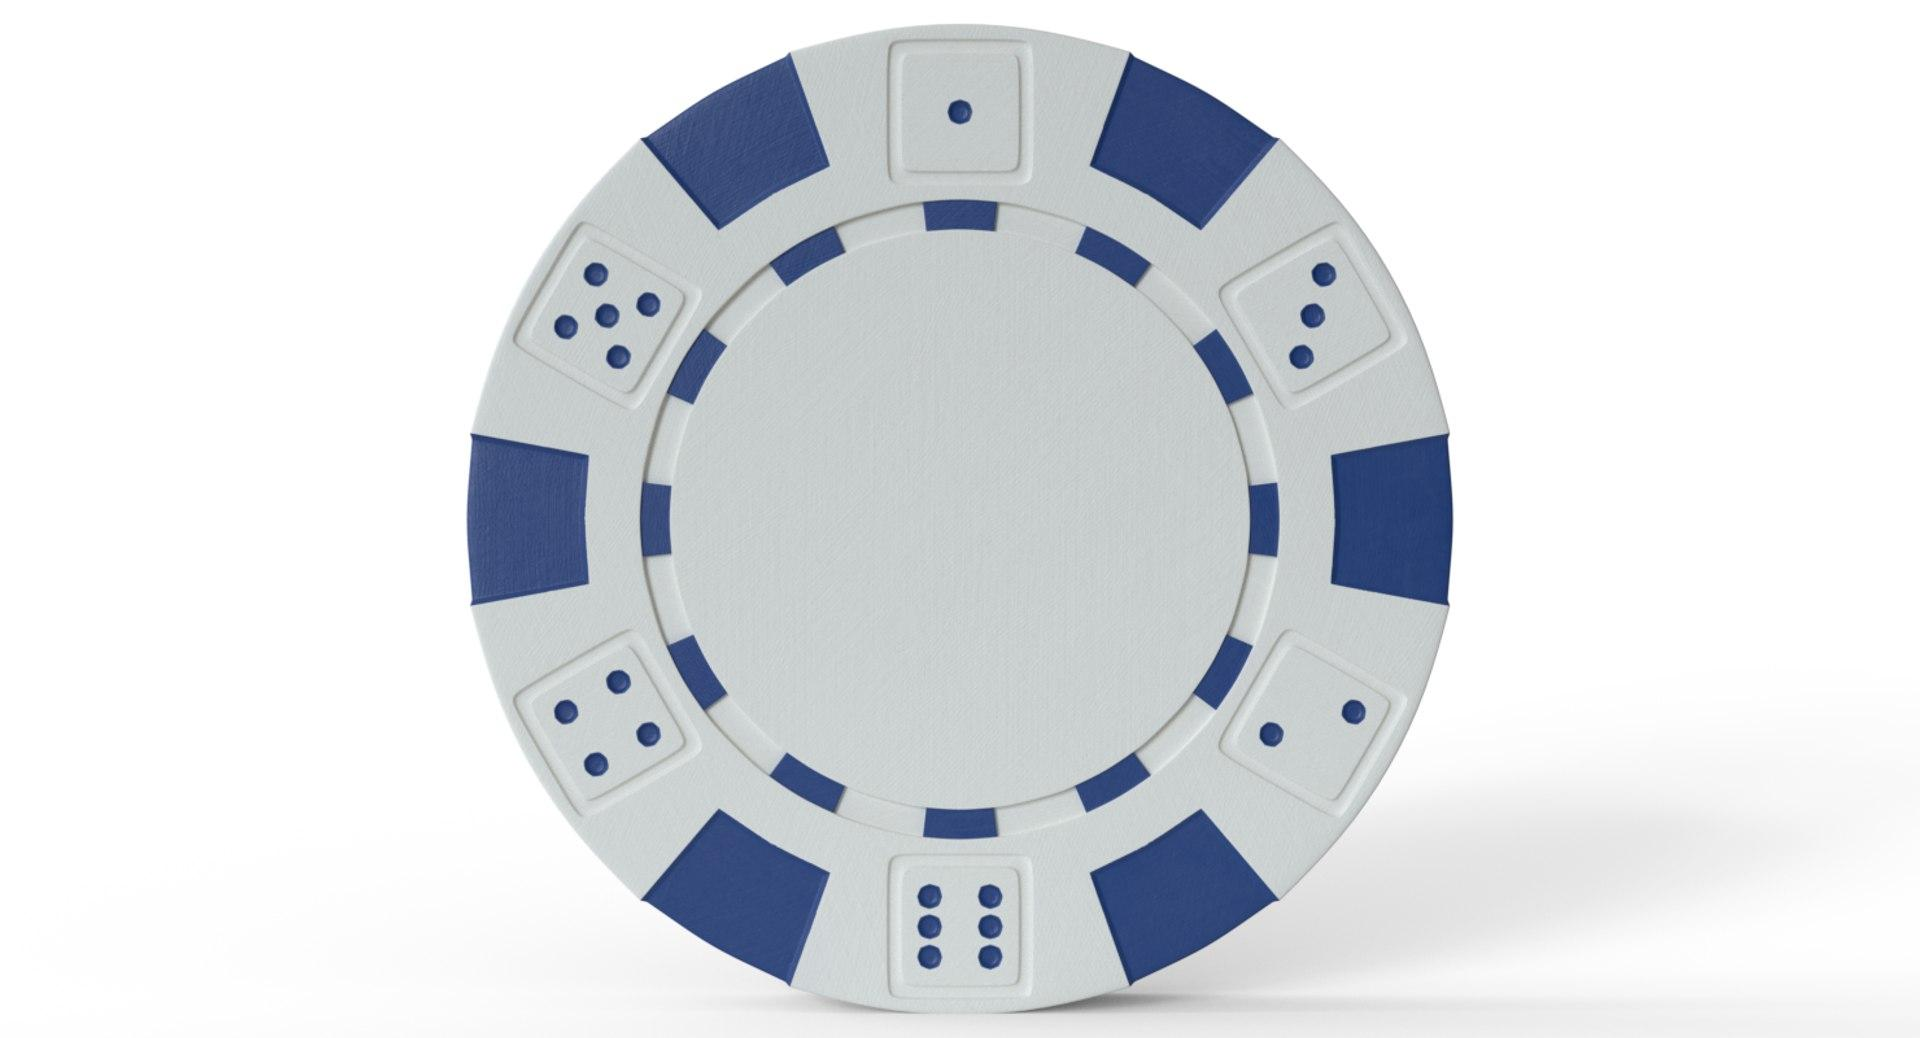chip-white: (469, 27, 1451, 1012)
